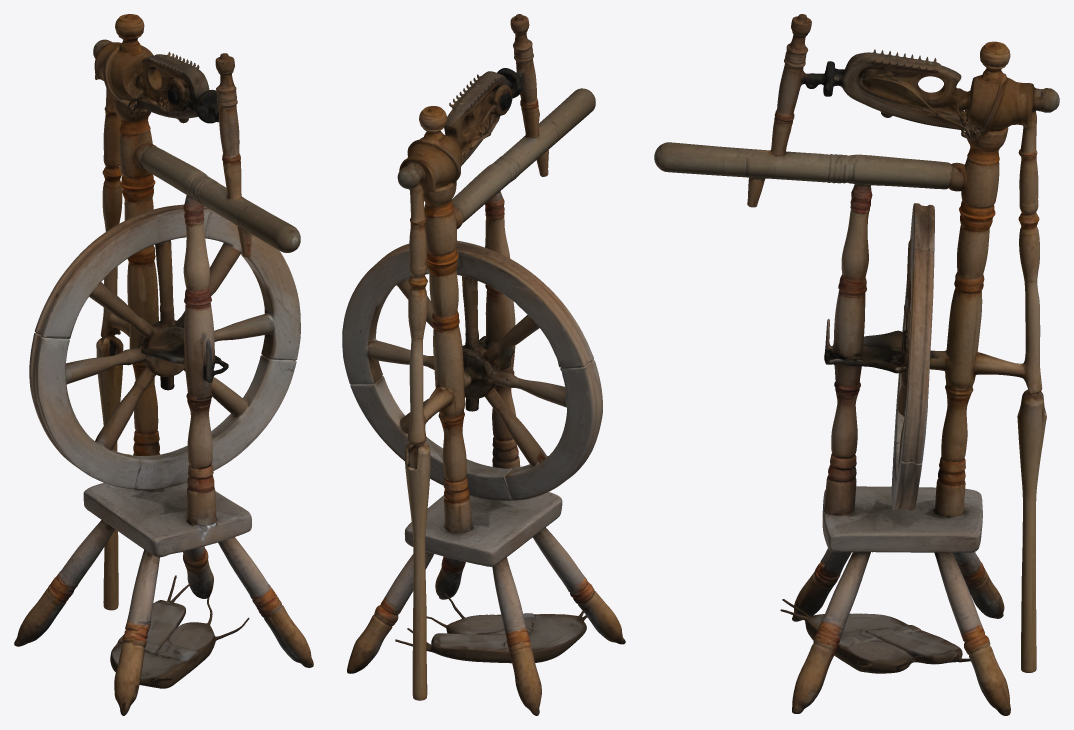
The model's file is 046-starinnye-utyugi-i-pryalka.glb.
3 views of the same model, side by side, from view 1: azimuth 30°, elevation 25°; view 2: azimuth 150°, elevation 25°; view 3: azimuth 270°, elevation 25° (orthographic). The views are drawn at different scales.
Visible parts, largest first — view 1: node_0; view 2: node_0; view 3: node_0.
Boxes of the visible parts, x1=… form: node_0: x1=14, y1=14, x2=313, y2=715; node_0: x1=342, y1=14, x2=625, y2=715; node_0: x1=654, y1=14, x2=1059, y2=715.
Size of the model in its own units: 0.4607 by 1.06 by 0.5905.
Materials: 1 (1 with a texture image).
